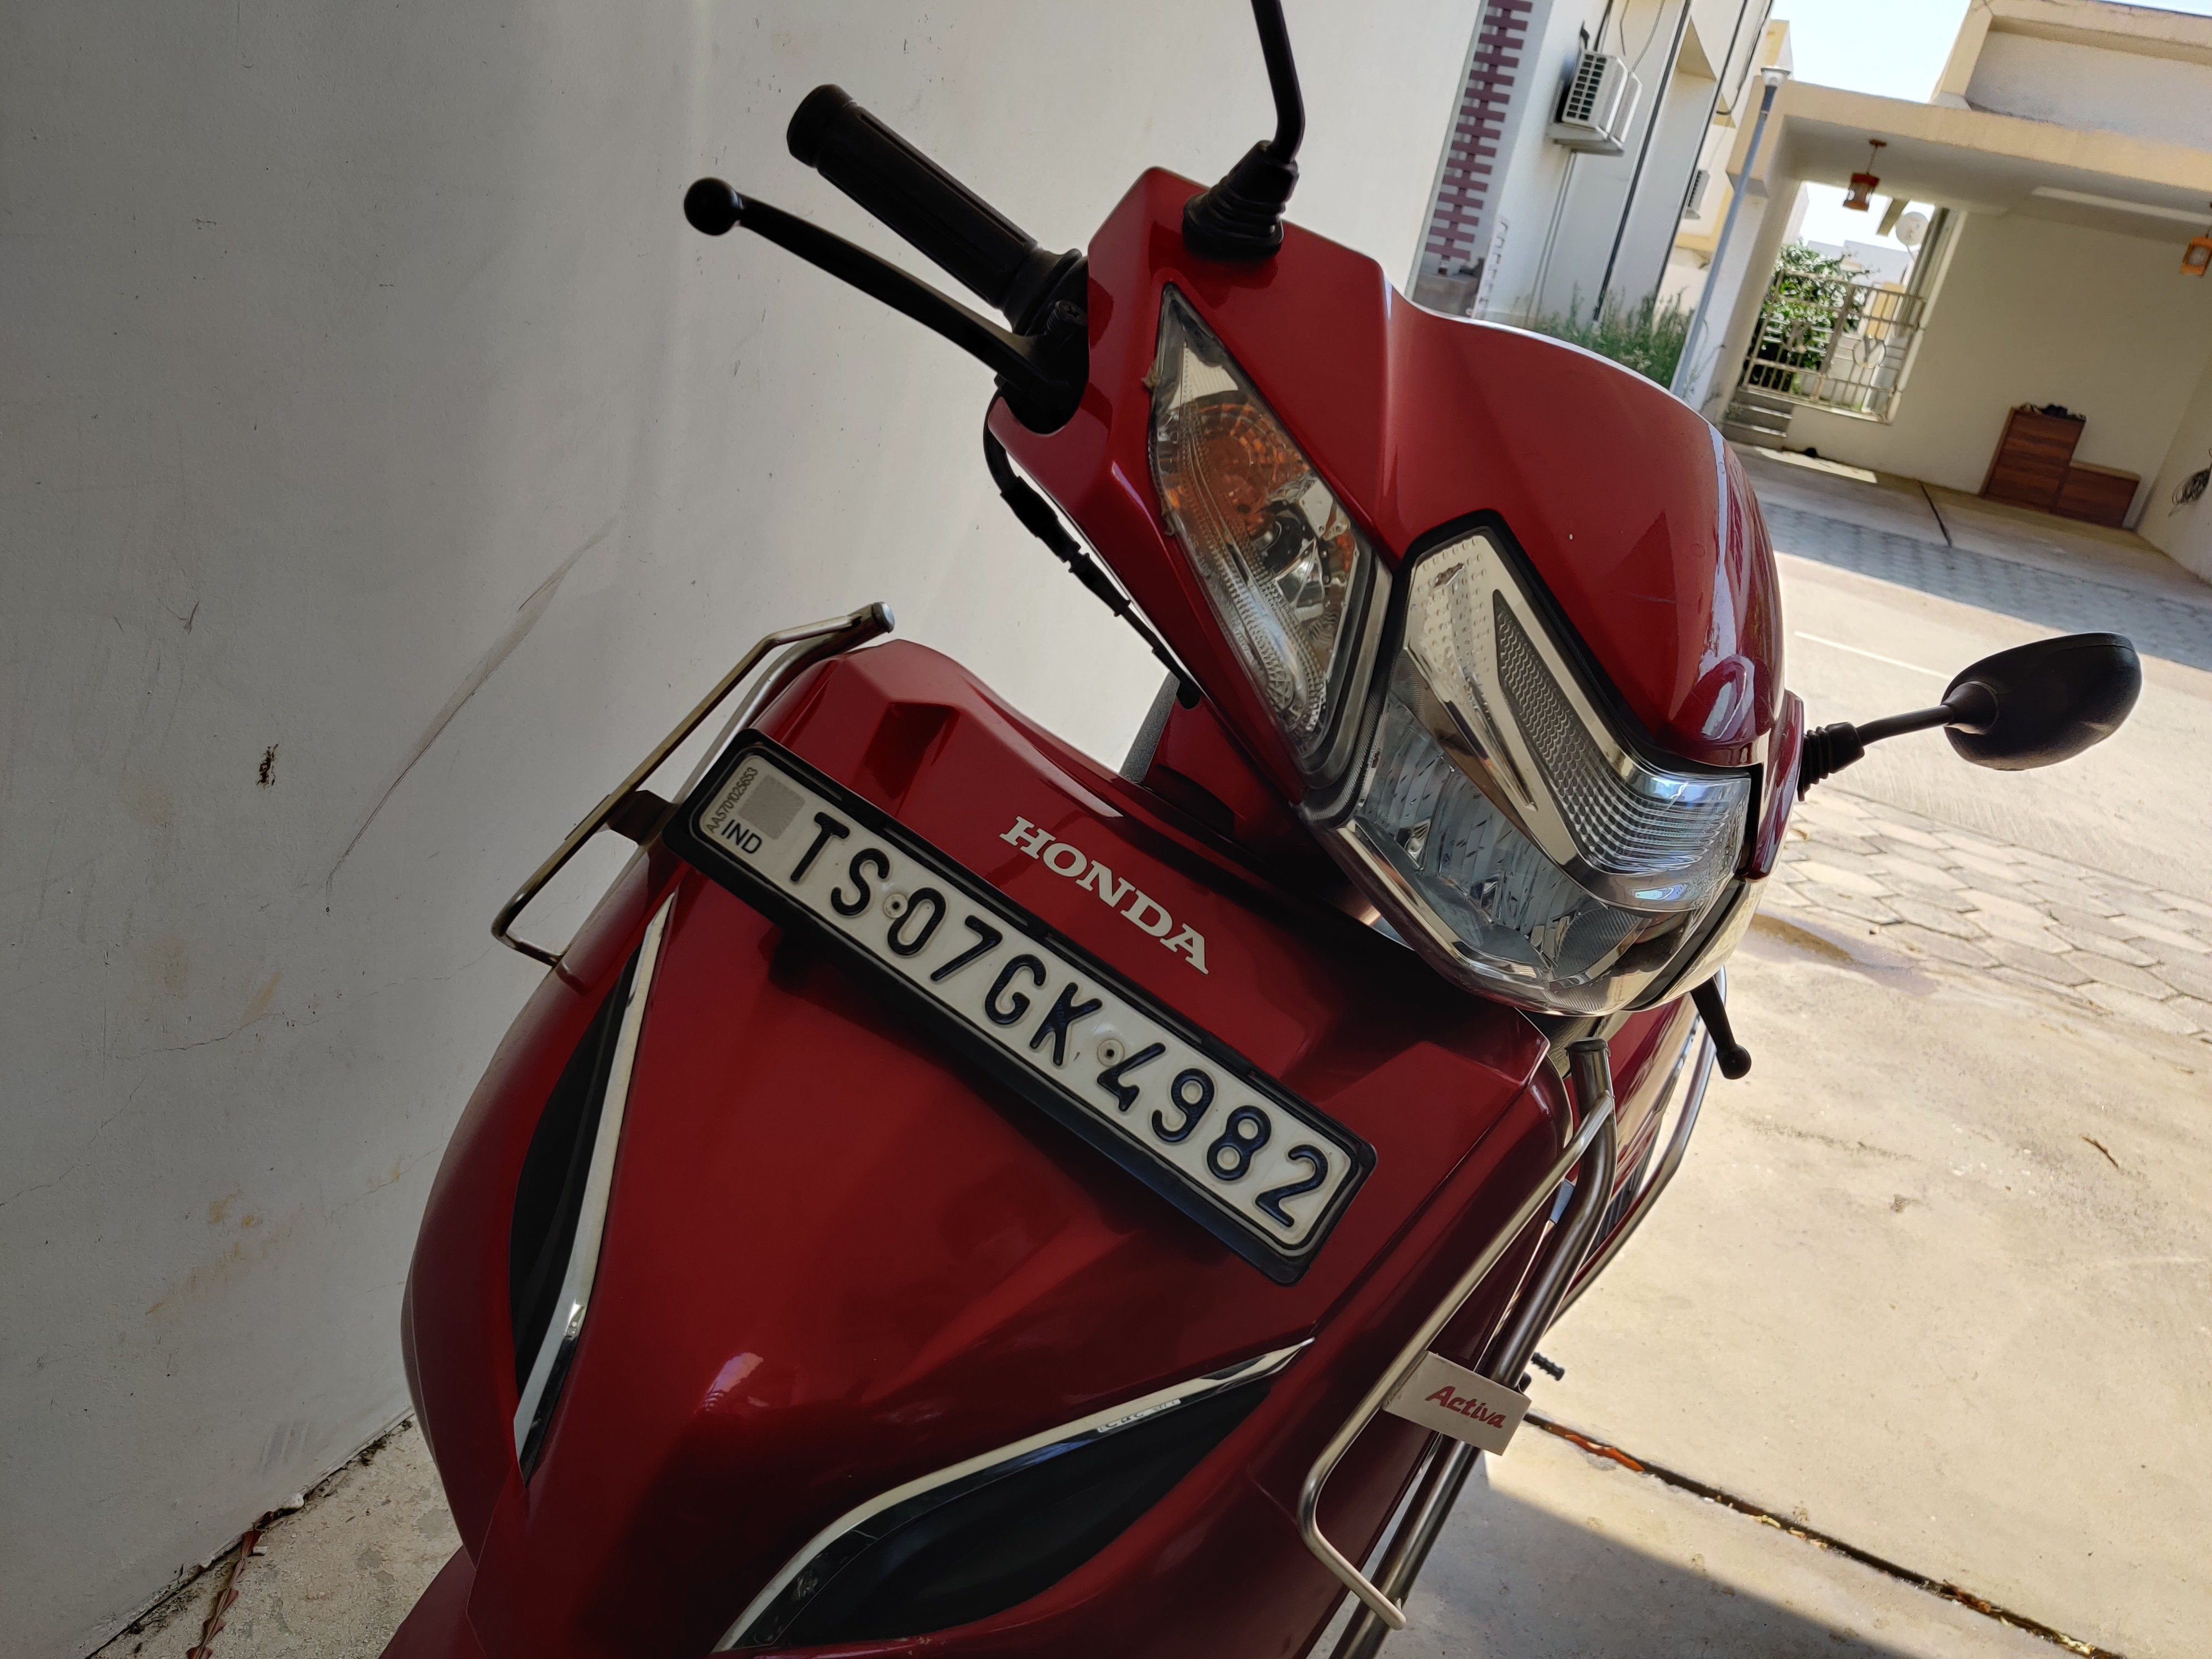plate: (673, 702, 1396, 1306)
